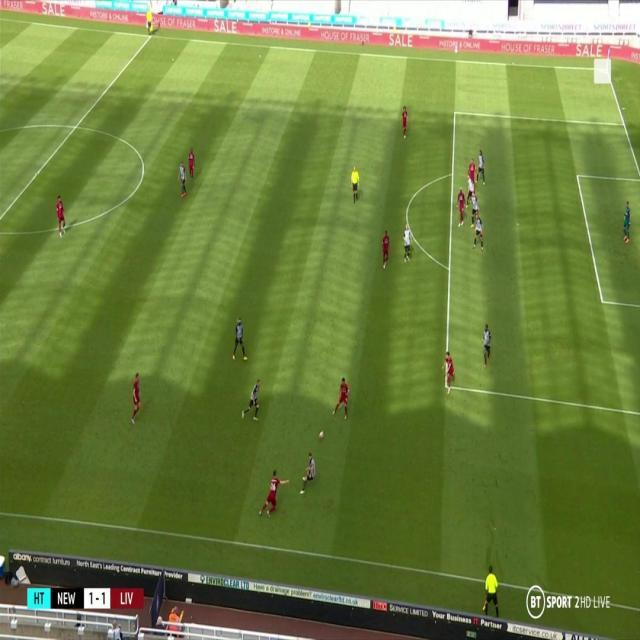ball: (318, 429, 325, 442)
goalkeeper: (619, 198, 634, 247)
player: (257, 470, 289, 518), (242, 378, 263, 424), (298, 449, 317, 497), (128, 369, 144, 424), (333, 378, 349, 424), (233, 318, 249, 364), (443, 350, 457, 398), (55, 193, 67, 238), (481, 324, 493, 369), (473, 215, 486, 252), (400, 224, 412, 263), (176, 159, 187, 199), (465, 172, 477, 208), (470, 194, 482, 229), (456, 186, 466, 228), (468, 157, 478, 196), (477, 149, 487, 187), (381, 229, 390, 271), (187, 147, 197, 182), (400, 105, 409, 141)
referee: (480, 559, 506, 617), (349, 164, 362, 206), (146, 7, 154, 37)
